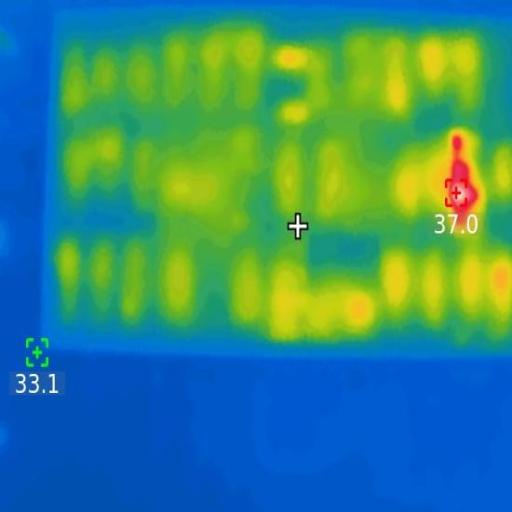hotspot: (452, 159, 474, 221), (450, 133, 463, 152)
